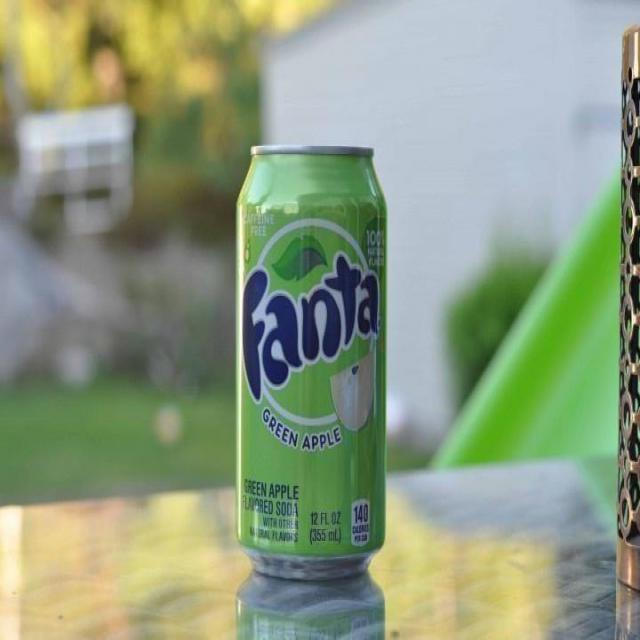tin can: (234, 140, 388, 580)
